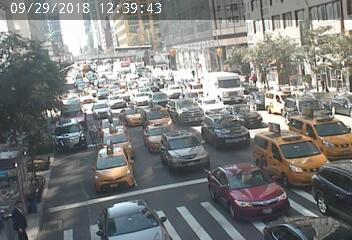car: (210, 169, 287, 211), (257, 133, 319, 173), (295, 110, 350, 148), (206, 116, 256, 151), (104, 209, 171, 234), (89, 151, 137, 184), (161, 131, 210, 163), (206, 71, 250, 104), (169, 99, 200, 124), (227, 103, 261, 125), (143, 106, 175, 129), (54, 126, 85, 149), (146, 127, 178, 147), (100, 128, 131, 145), (121, 110, 143, 125), (268, 94, 287, 108), (131, 92, 149, 106), (108, 98, 128, 110), (89, 106, 107, 116), (156, 92, 171, 104), (97, 119, 119, 126), (95, 92, 110, 100)
